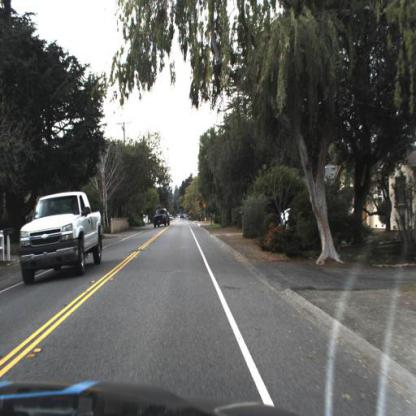car: (20, 189, 104, 286), (150, 203, 175, 233)
